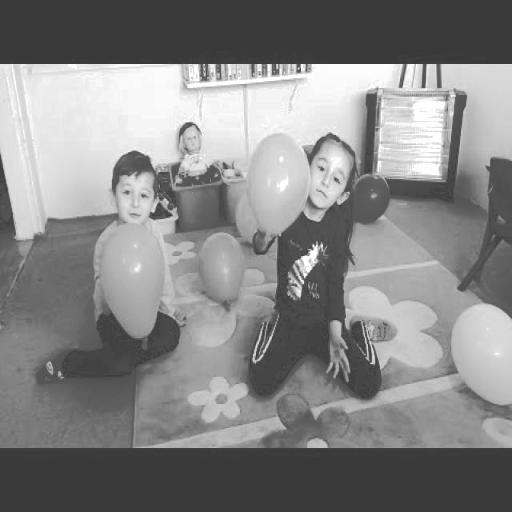balloon: (102, 221, 164, 340), (246, 131, 312, 238), (450, 304, 512, 400), (197, 231, 247, 307), (352, 171, 391, 227), (236, 192, 262, 246)
